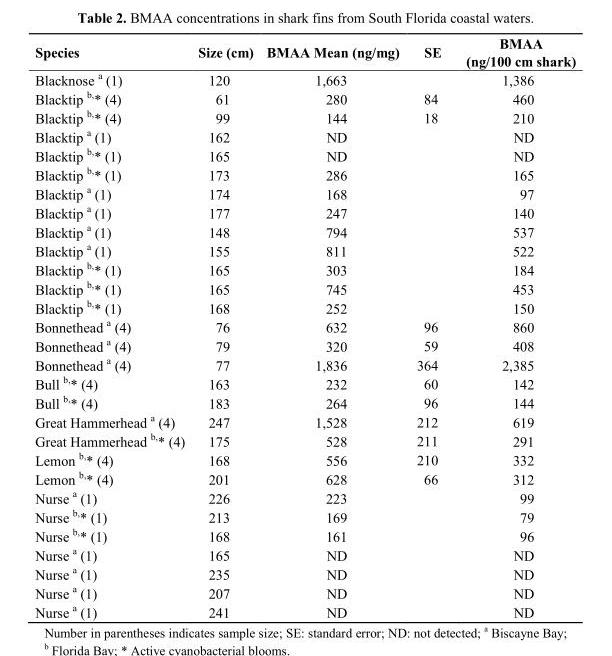table: (34, 35, 575, 619)
table column: (34, 35, 190, 619), (259, 35, 407, 619), (453, 35, 575, 619), (190, 35, 259, 619), (407, 35, 453, 619)
table column header: (34, 35, 575, 69)
table row: (34, 35, 575, 69), (34, 69, 575, 88), (34, 88, 575, 107), (34, 107, 575, 126), (34, 126, 575, 145), (34, 145, 575, 164), (34, 164, 575, 183), (34, 183, 575, 202), (34, 202, 575, 221), (34, 221, 575, 240), (34, 240, 575, 259), (34, 259, 575, 278), (34, 278, 575, 297), (34, 297, 575, 316), (34, 316, 575, 335), (34, 335, 575, 354), (34, 354, 575, 373), (34, 373, 575, 392), (34, 392, 575, 411), (34, 411, 575, 430), (34, 430, 575, 449), (34, 449, 575, 468), (34, 468, 575, 487), (34, 487, 575, 506), (34, 506, 575, 525), (34, 525, 575, 544), (34, 544, 575, 563), (34, 563, 575, 582), (34, 582, 575, 601), (34, 601, 575, 619)
